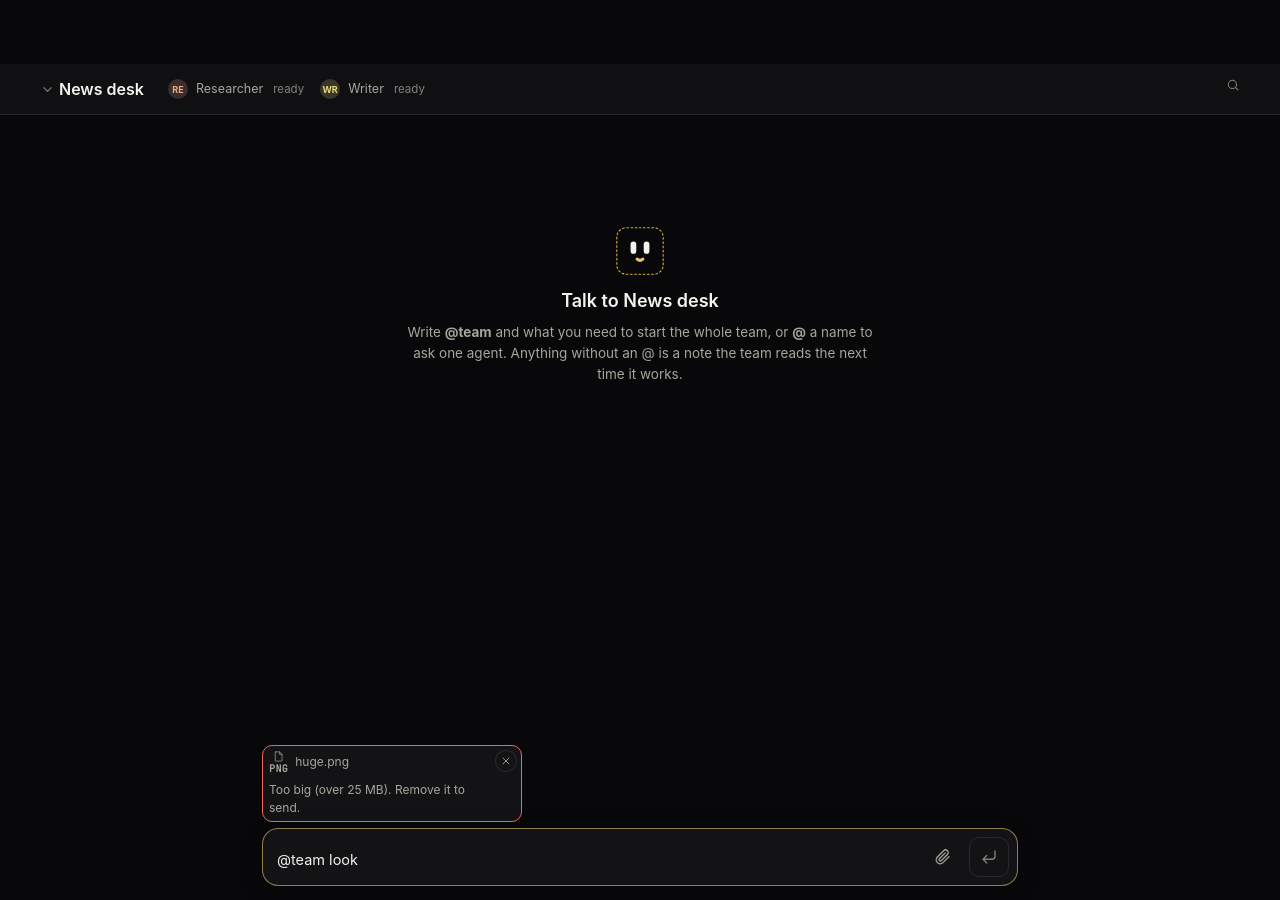
Test: pictures and files go with a message (ADR 0082) › a file too big to keep says so on its chip, and comes out with its ✕
Expected: the text "Too big (over 25 MB). Remove it to send." is shown, [269,781,491,817]
Clear the field named "Message the team": (318,860) [277,851,358,868]
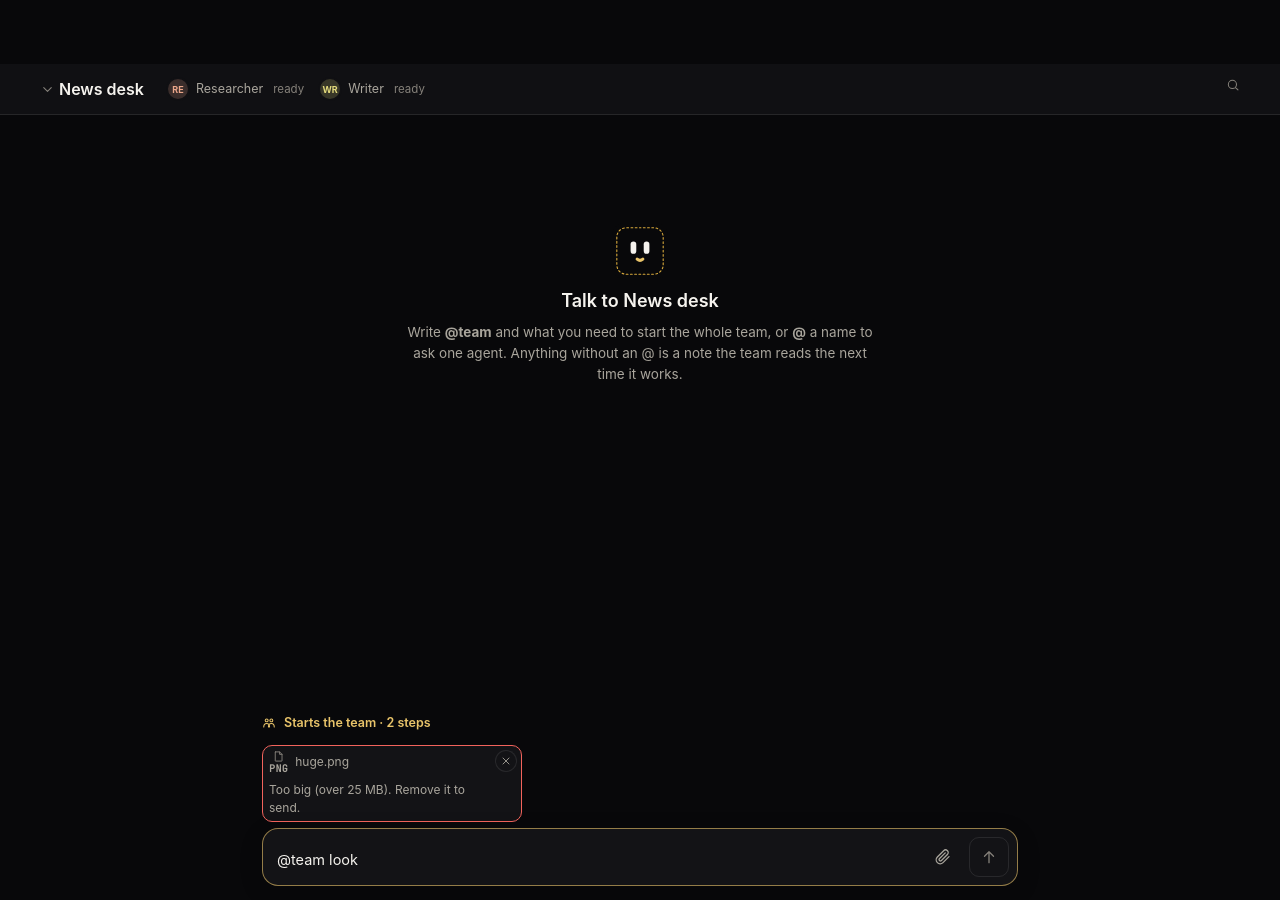
Expected: the button named "Start" is disabled, [969,837,1009,877]
Click the button named "Don’t send huge.png": (506,761) [495,750,517,772]
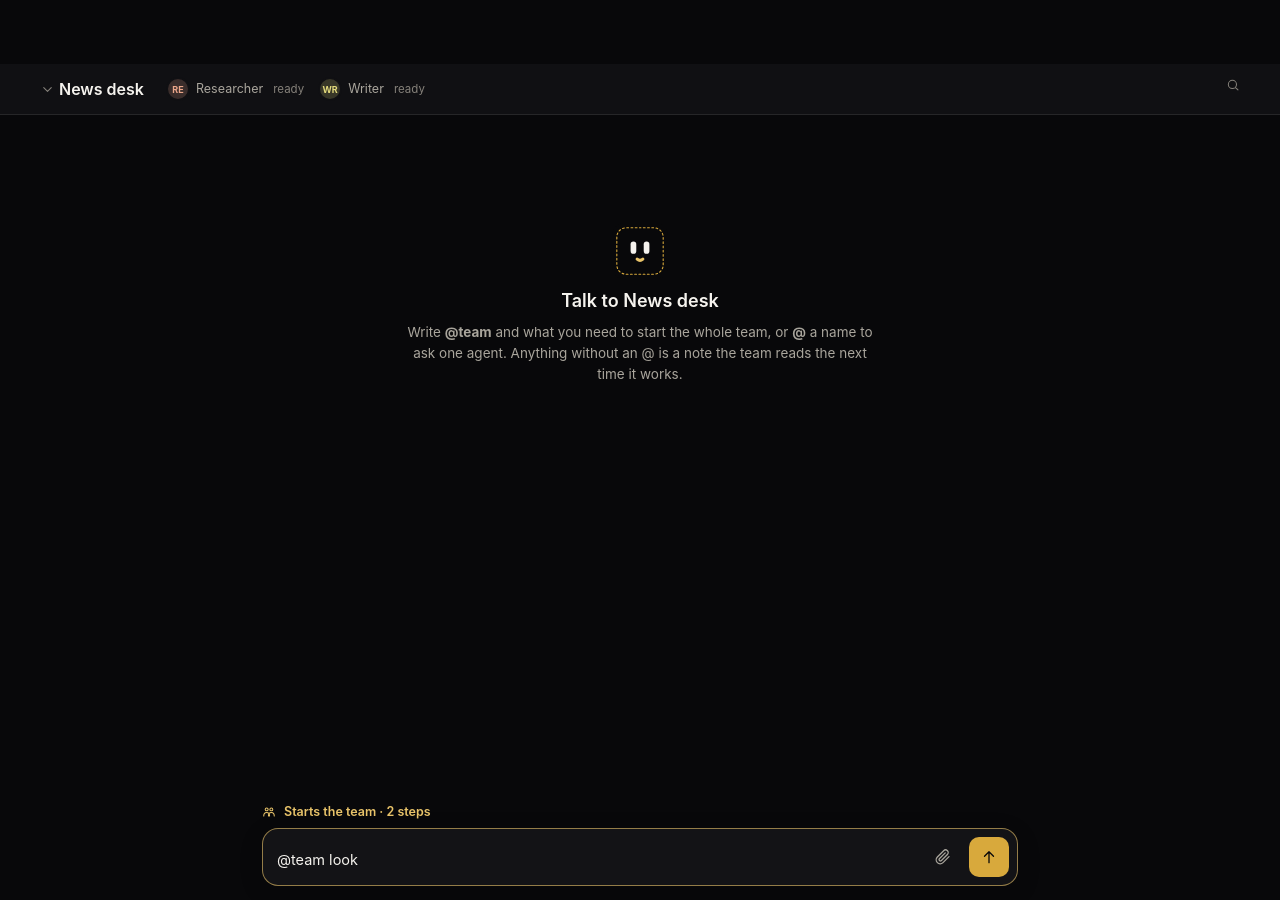
Result: the text "Too big (over 25 MB). Remove it to send." is gone
Result: the button named "Start" is enabled at [969,837,1009,877]
